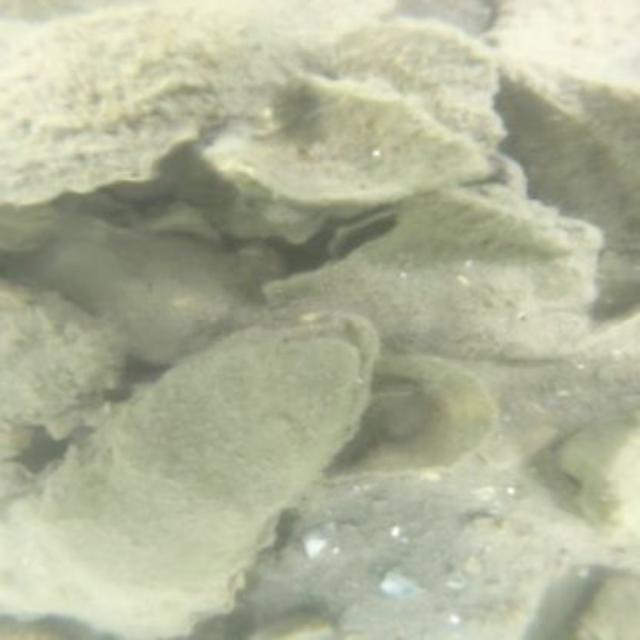Oyster-Closed: (28, 313, 378, 614), (0, 4, 309, 210), (267, 191, 603, 359), (194, 66, 494, 212), (250, 496, 554, 638), (0, 464, 216, 638), (36, 222, 251, 357), (316, 349, 503, 487), (312, 21, 493, 141), (2, 276, 124, 429), (416, 186, 578, 254), (573, 574, 636, 638)
Oyster-Open: (326, 199, 412, 270)
